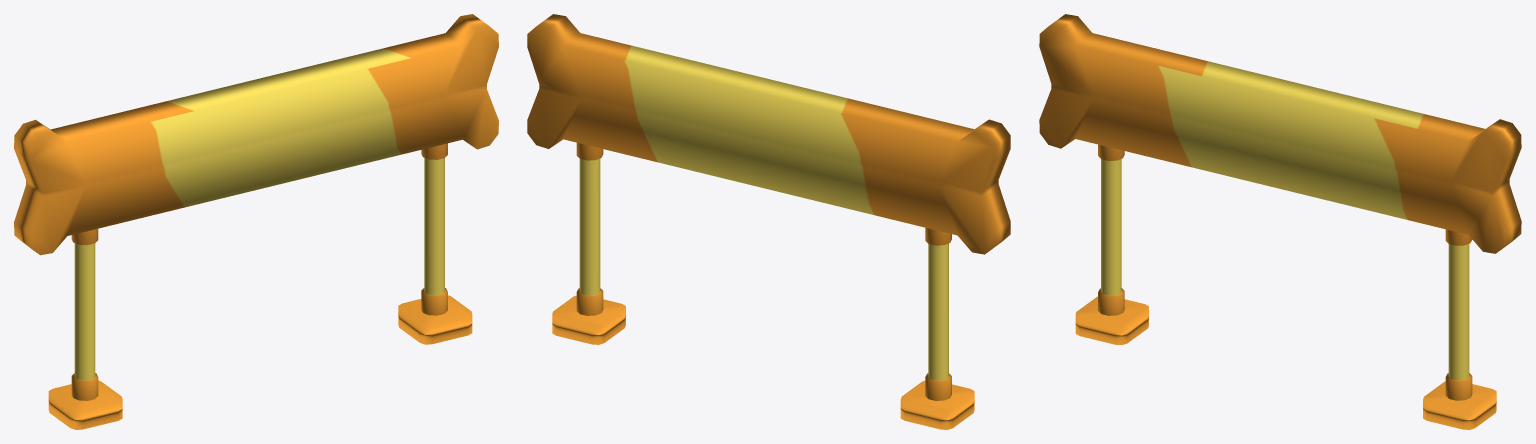
The model's file is MEC0110020.fbx.
3 views of the same model, side by side, from view 1: azimuth 30°, elevation 25°; view 2: azimuth 150°, elevation 25°; view 3: azimuth 330°, elevation 25° (orthographic).
Parts seen in each view (by area): view 1: smMEC0110020; view 2: smMEC0110020; view 3: smMEC0110020.
Boxes of the visible parts, <box> form: smMEC0110020: <box>14,14,498,429</box>; smMEC0110020: <box>527,14,1010,429</box>; smMEC0110020: <box>1039,14,1521,429</box>.
Size of the model in its own units: 186 by 114 by 20.48.
1 material, 1 textured.
